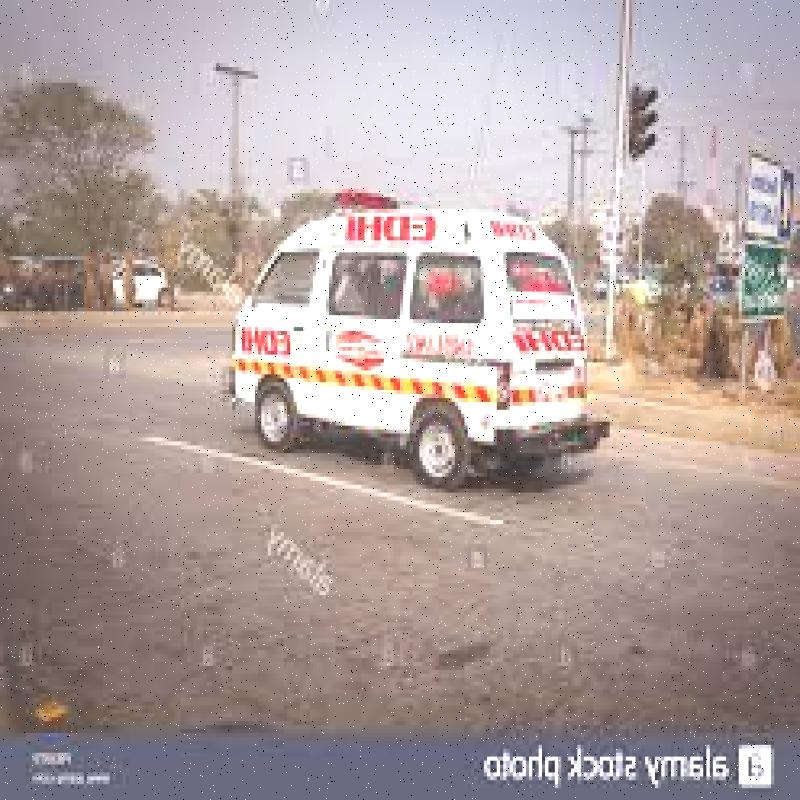ambulance: (230, 216, 588, 475)
